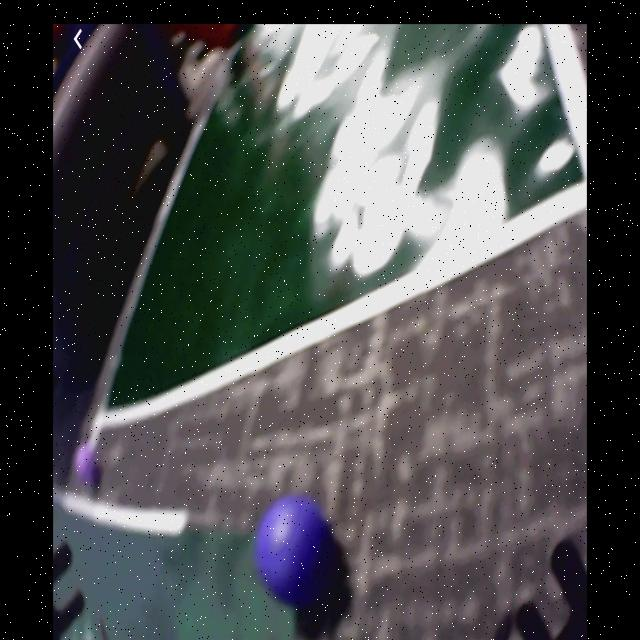ball: (256, 494, 328, 604), (74, 443, 98, 485)
